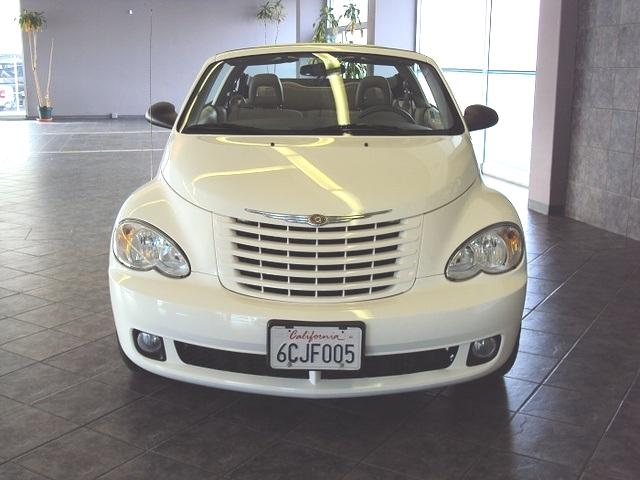Chrysler: (238, 196, 399, 231)
